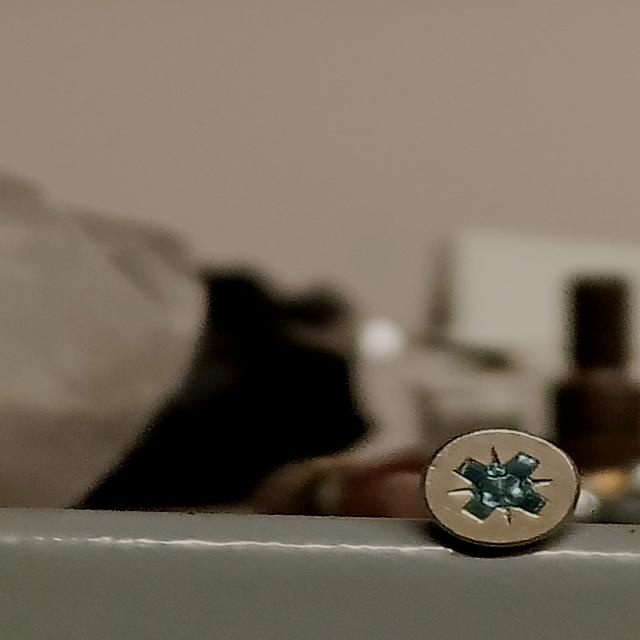pozidriv: (422, 427, 578, 550)
